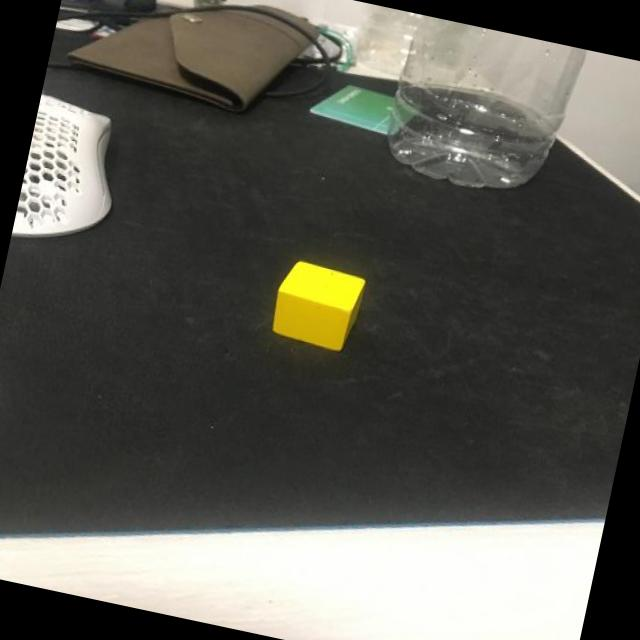yellow: (269, 258, 367, 354)
